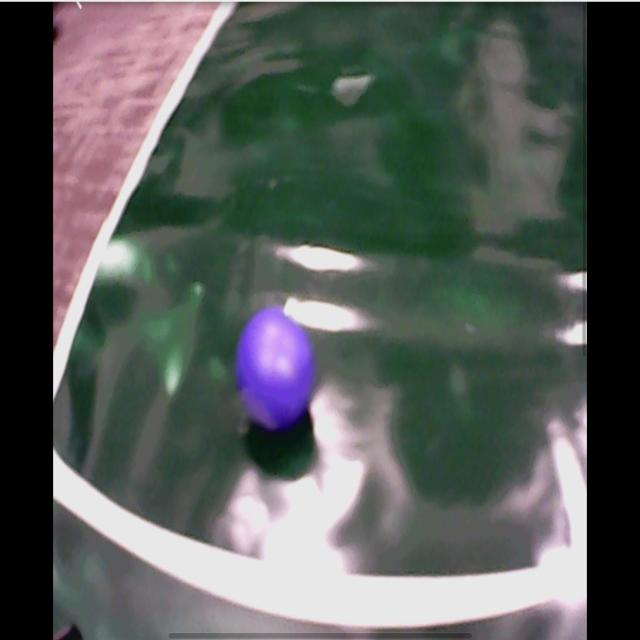ball: (240, 308, 313, 429)
